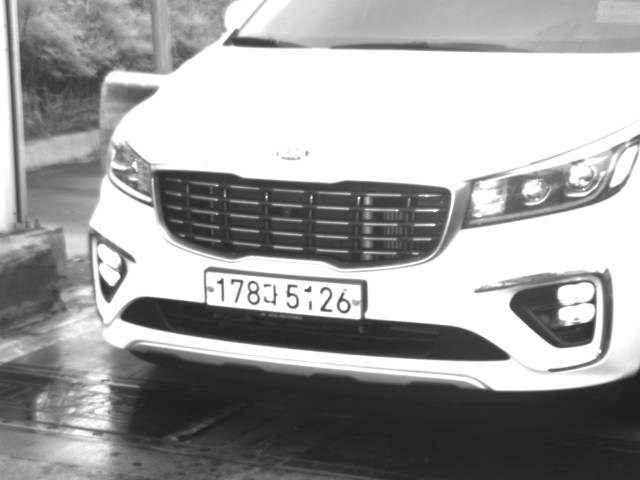car: (83, 1, 639, 402)
plate: (204, 268, 367, 323)
